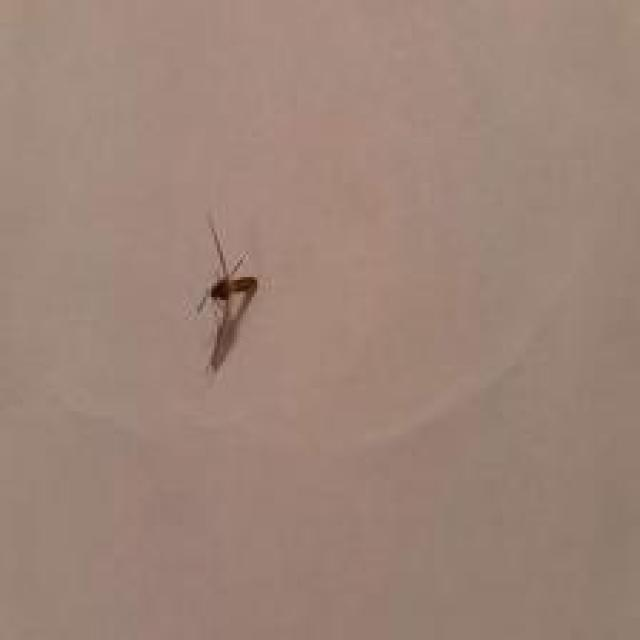Culex: (193, 213, 258, 376)
